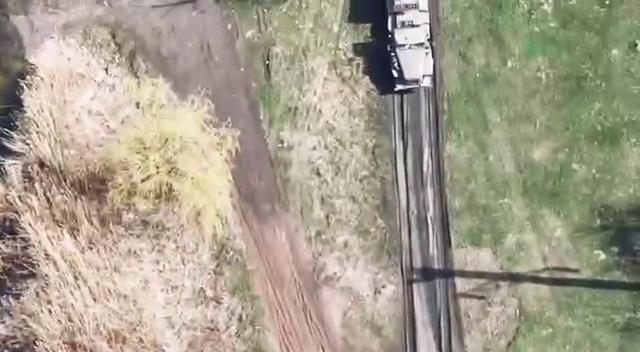vehicle: (387, 0, 430, 94)
